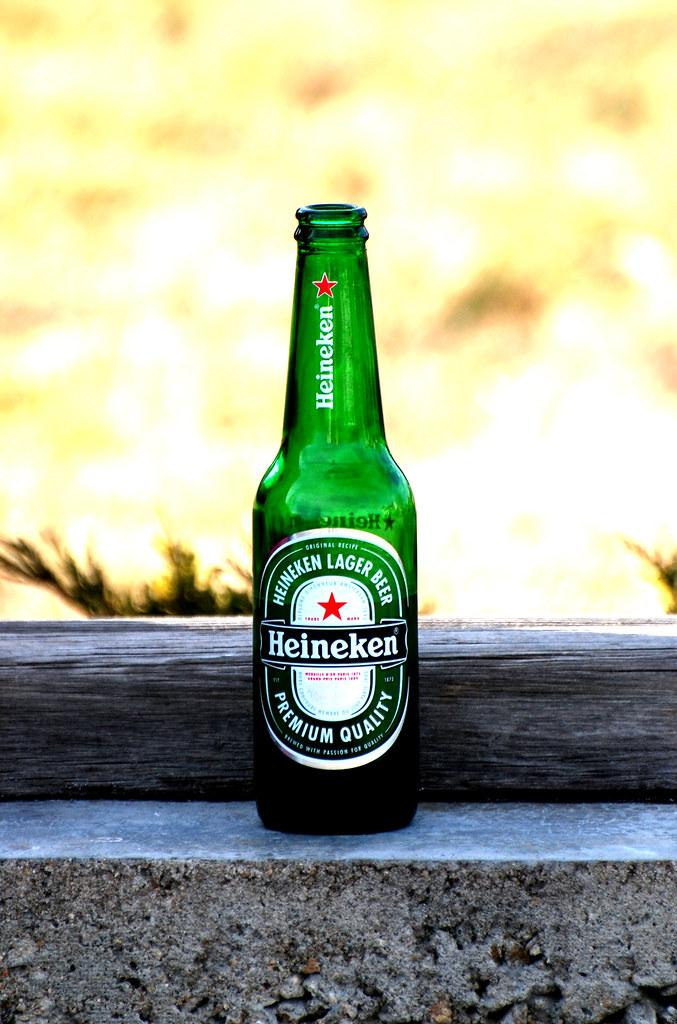bottle: (251, 202, 421, 835)
